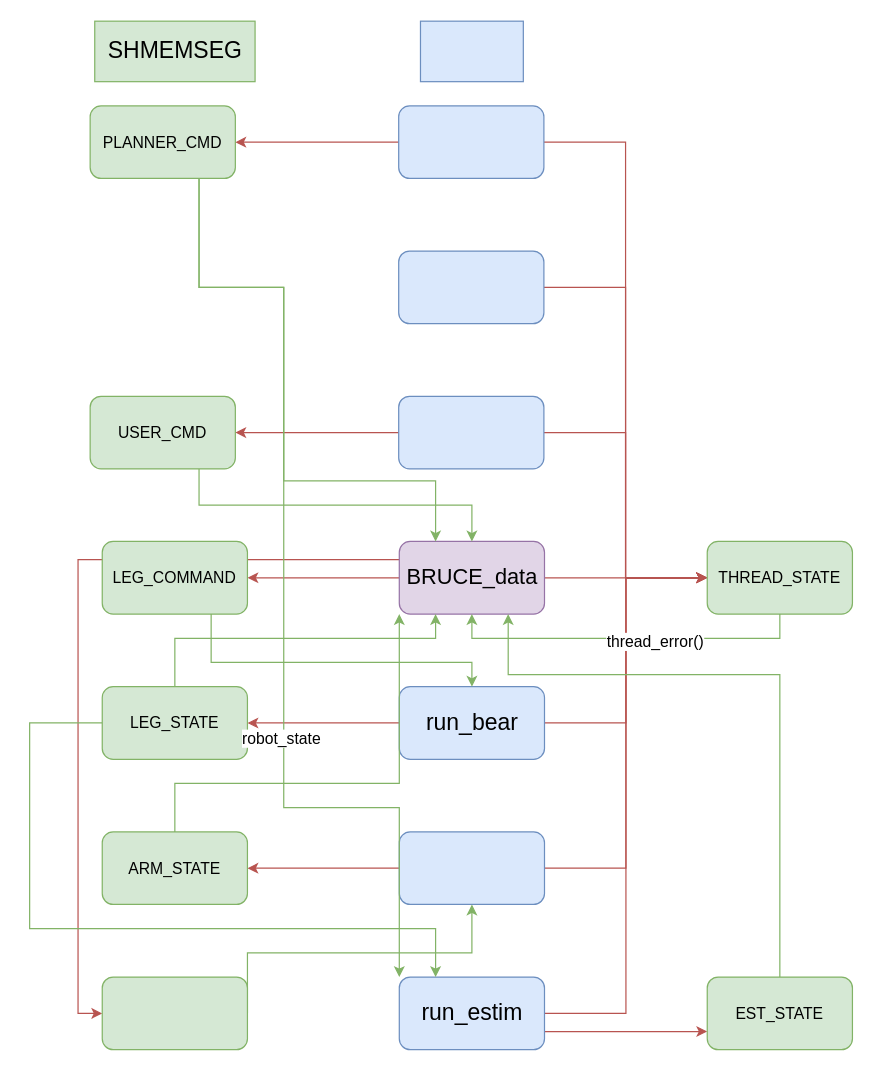
Some shapes in this 874 by 1071 pixel diagram are drawn without their labels. The centre of each missing label's shape, as x and y in pixels:
"ARM_COMMAND" belongs at (174,1013).
"high_level" belongs at (470,141).
"low_level" belongs at (470,287).
"run_dxl" belongs at (471,867).
"thread" belongs at (471,51).
"top_level" belongs at (470,432).
